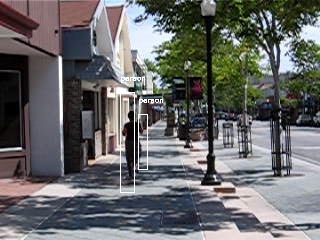person: (122, 112, 145, 182), (121, 112, 144, 182), (123, 112, 146, 182), (122, 111, 145, 181), (122, 113, 145, 183)
target_negative: (120, 30, 315, 205), (13, 139, 304, 183), (106, 57, 174, 202), (19, 37, 173, 51)
